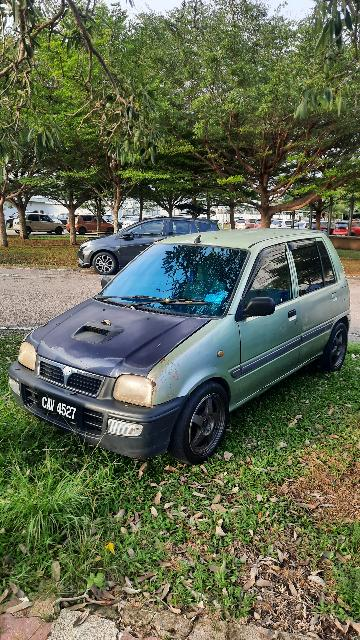License_Plate: (30, 385, 96, 436)
car: (11, 227, 360, 468)
